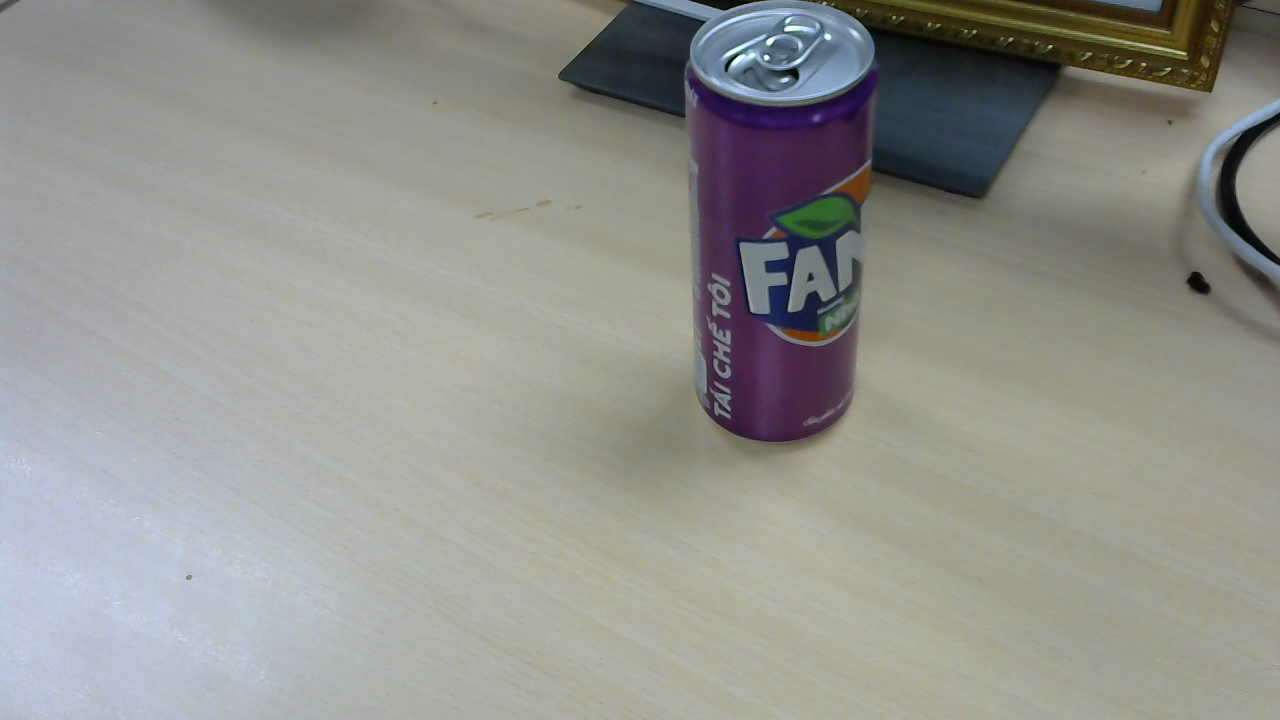Fanta: (690, 6, 882, 453)
